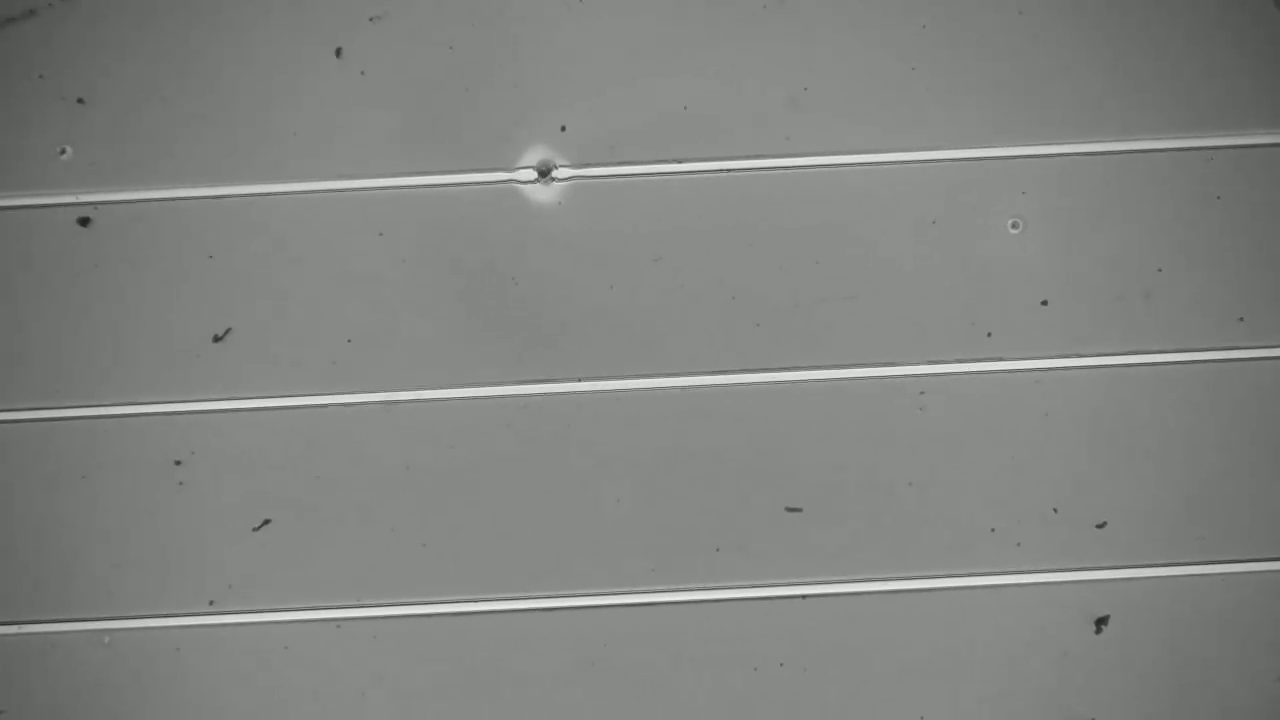stains_enbedded: (523, 148, 573, 193)
